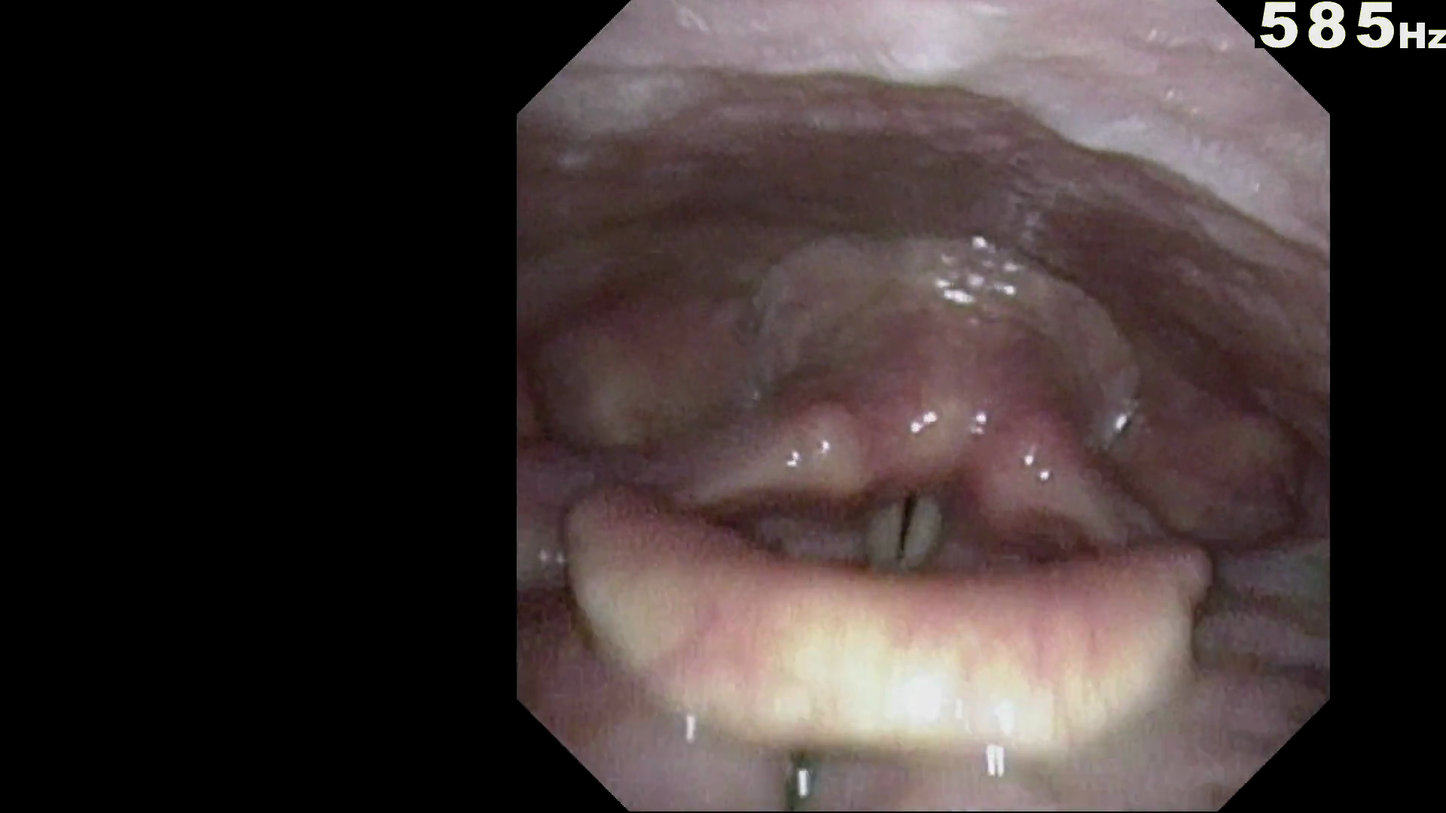epiglottis: (606, 576, 1221, 786)
trachea: (854, 479, 961, 612)
